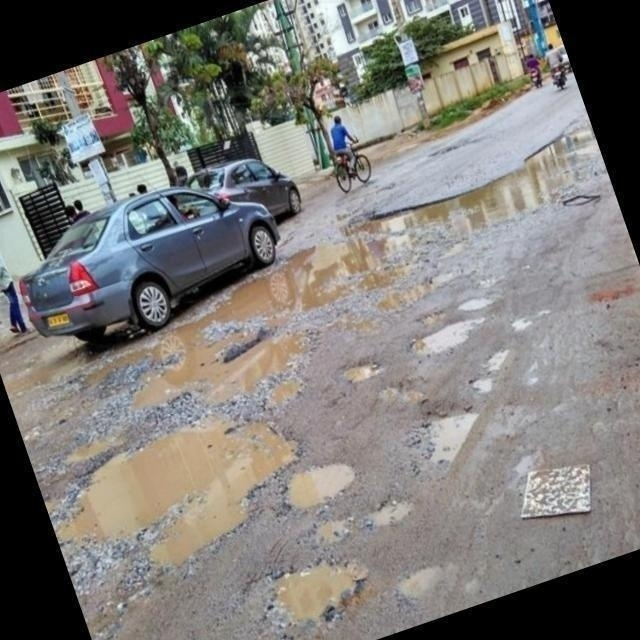pothole: (65, 420, 272, 570), (323, 182, 506, 286), (167, 311, 304, 406), (282, 546, 362, 633), (286, 452, 358, 514), (414, 398, 470, 459), (416, 304, 480, 354), (339, 351, 382, 386)
